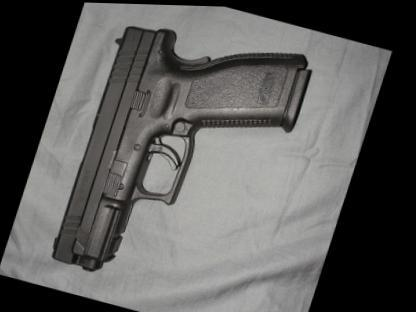pistol: (44, 4, 322, 310)
